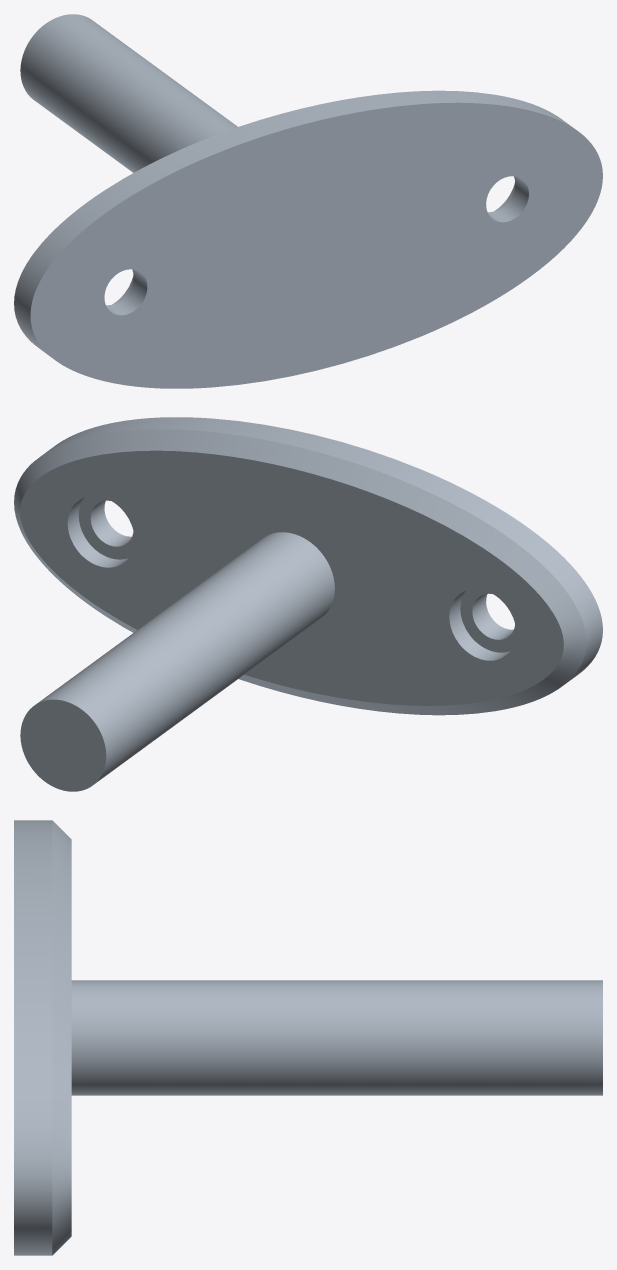
The model's file is washer-b-9.glb.
3 renders of one model, top to bottom at view 1: azimuth 30°, elevation 25°; view 2: azimuth 150°, elevation 25°; view 3: azimuth 270°, elevation 25°, orthographic. The views are drawn at different scales.
Visible parts, largest first — view 1: Bracket; view 2: Bracket; view 3: Bracket.
Part boxes in pixels (box(x1,y1,x2,y2)): Bracket: box(14, 14, 602, 388); Bracket: box(14, 417, 602, 791); Bracket: box(14, 820, 602, 1255).
Size of the model in its own units: 0.06 by 0.025 by 0.046.
